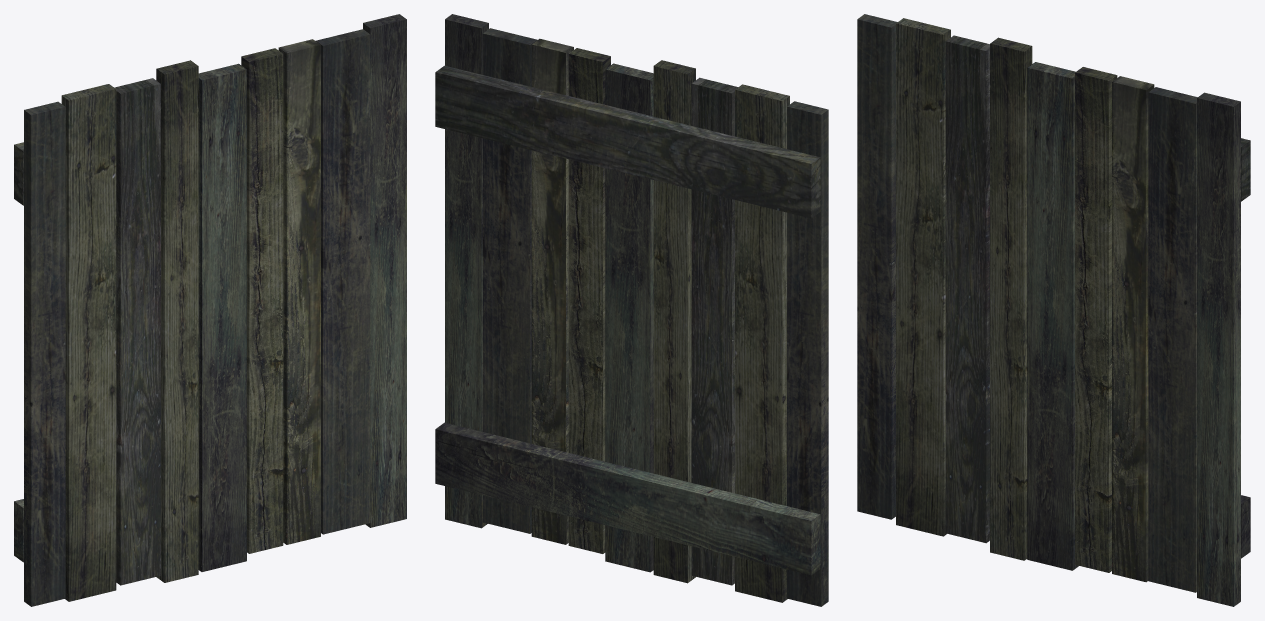
Rendered from OldWoodenFence 2m.fbx.
The picture shows the model from 3 angles, left to right: view 1: azimuth 30°, elevation 25°; view 2: azimuth 150°, elevation 25°; view 3: azimuth 330°, elevation 25°; orthographic projection.
Parts seen in each view (by area): view 1: OldWoodenFence; view 2: OldWoodenFence; view 3: OldWoodenFence.
Boxes of the visible parts, <box> form: OldWoodenFence: <box>14,14,406,606</box>; OldWoodenFence: <box>435,14,828,606</box>; OldWoodenFence: <box>857,14,1250,606</box>.
Size of the model in its own units: 2 by 2.59 by 0.1628.
